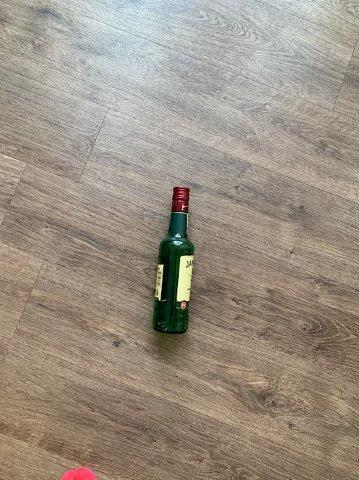botolkaca: (154, 188, 193, 331)
